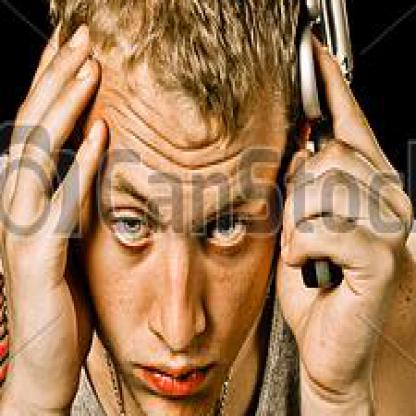gun: (266, 0, 379, 327)
